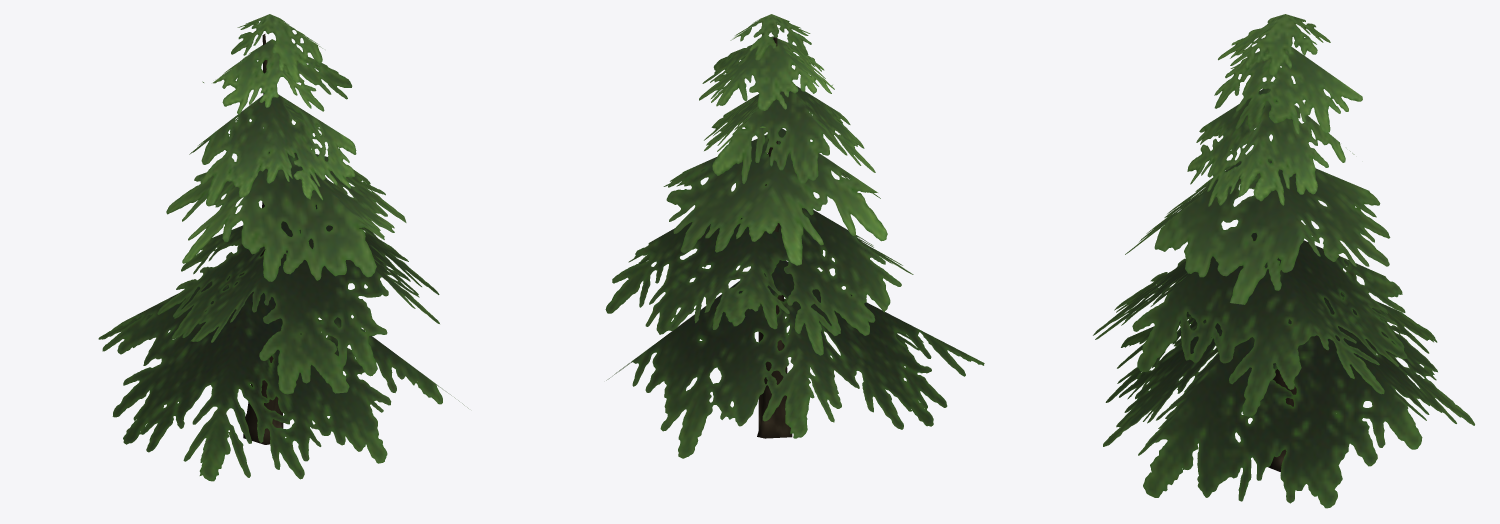
The model's file is Pine_01.fbx.
3 views of the same model, side by side, from view 1: azimuth 30°, elevation 25°; view 2: azimuth 150°, elevation 25°; view 3: azimuth 270°, elevation 25° (orthographic). The views are drawn at different scales.
Visible parts, largest first — view 1: Pine_01Combined; view 2: Pine_01Combined; view 3: Pine_01Combined.
Boxes of the visible parts, <box> form: Pine_01Combined: <box>98,14,468,481</box>; Pine_01Combined: <box>605,14,984,458</box>; Pine_01Combined: <box>1093,14,1474,508</box>.
Size of the model in its own units: 770 by 890 by 785.
